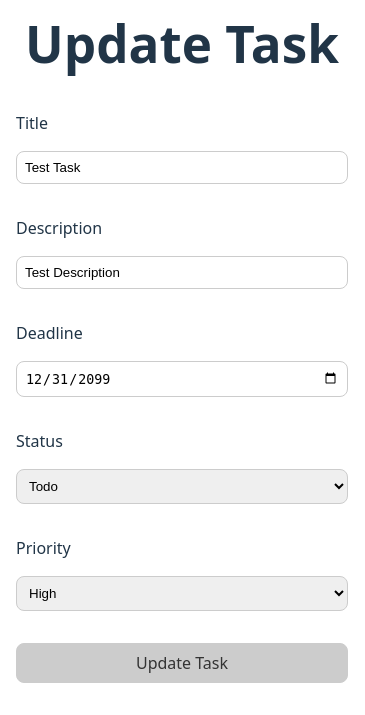
Test: UpdateTaskPage › should show error when title is empty
Replace the text in the field with placeholder "Title" with "T" at (182, 168), box [16,152,348,184]
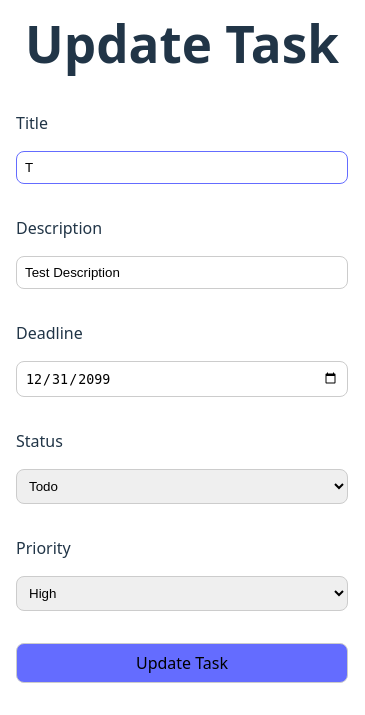
Clear the field with placeholder "Title" at (182, 168), box [16,152,348,184]
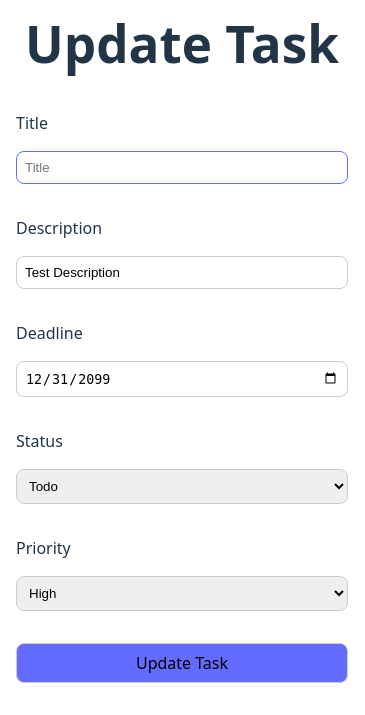
Press Tab
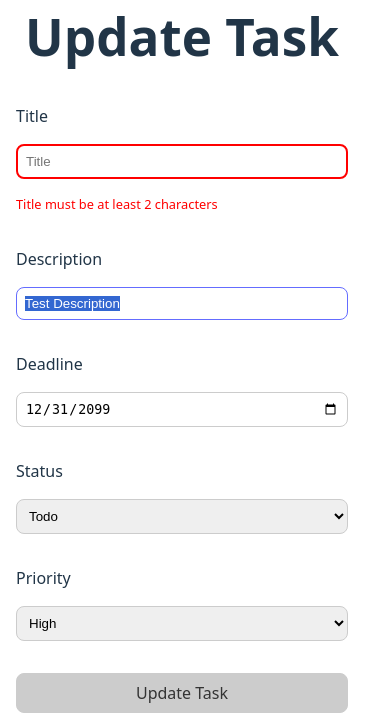
Expected: the button "Update Task" is disabled, [16,673,348,713]
Expected: the text "Title must be at least 2 characters" is shown, [16,195,218,213]
